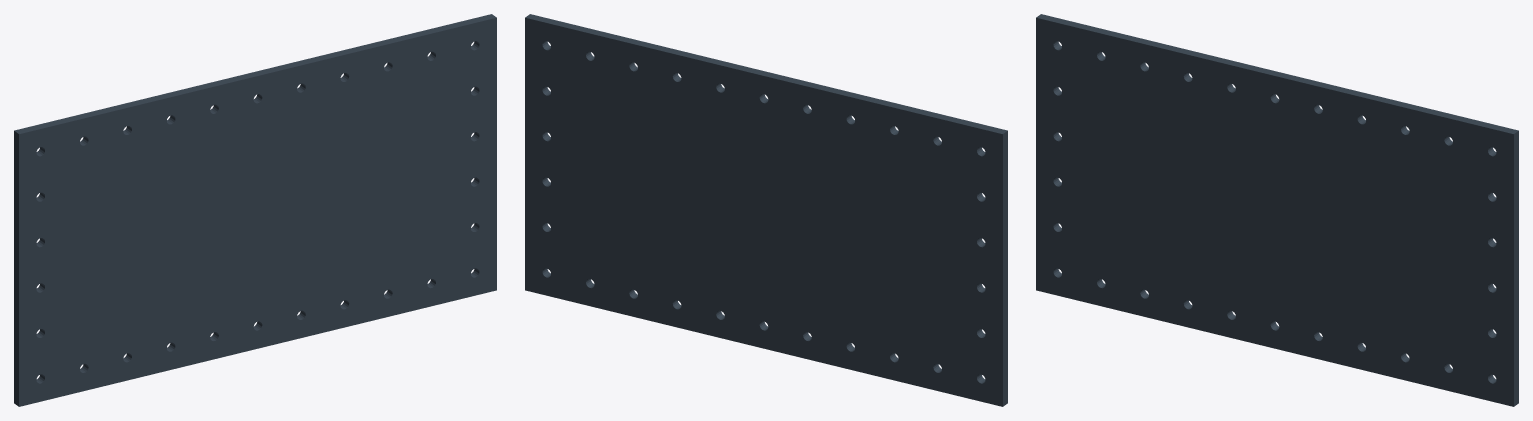
Rendered from kit_plate_220_120.obj.
3 renders of one model, left to right at view 1: azimuth 30°, elevation 25°; view 2: azimuth 150°, elevation 25°; view 3: azimuth 330°, elevation 25°, orthographic.
Visible parts, largest first — view 1: kit_plate_220_120; view 2: kit_plate_220_120; view 3: kit_plate_220_120.
Part boxes in pixels (x1,y1,x2,y2): kit_plate_220_120: [14, 14, 496, 406]; kit_plate_220_120: [525, 14, 1007, 406]; kit_plate_220_120: [1036, 14, 1518, 406].
Bounding box in the file's own units: 0.22 × 0.12 × 0.004.
